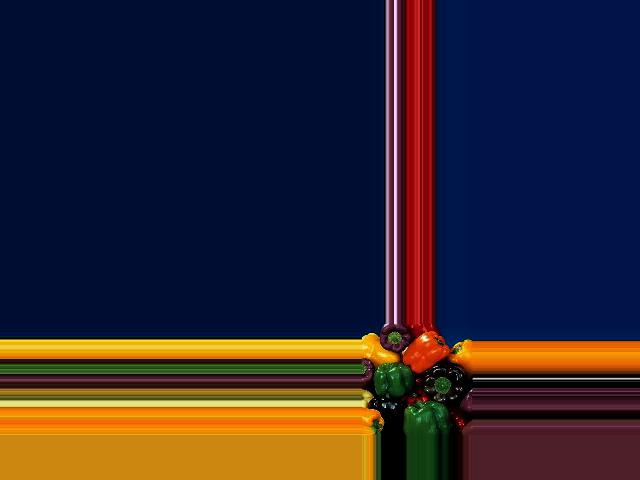bell_pepper: (404, 404, 452, 436)
